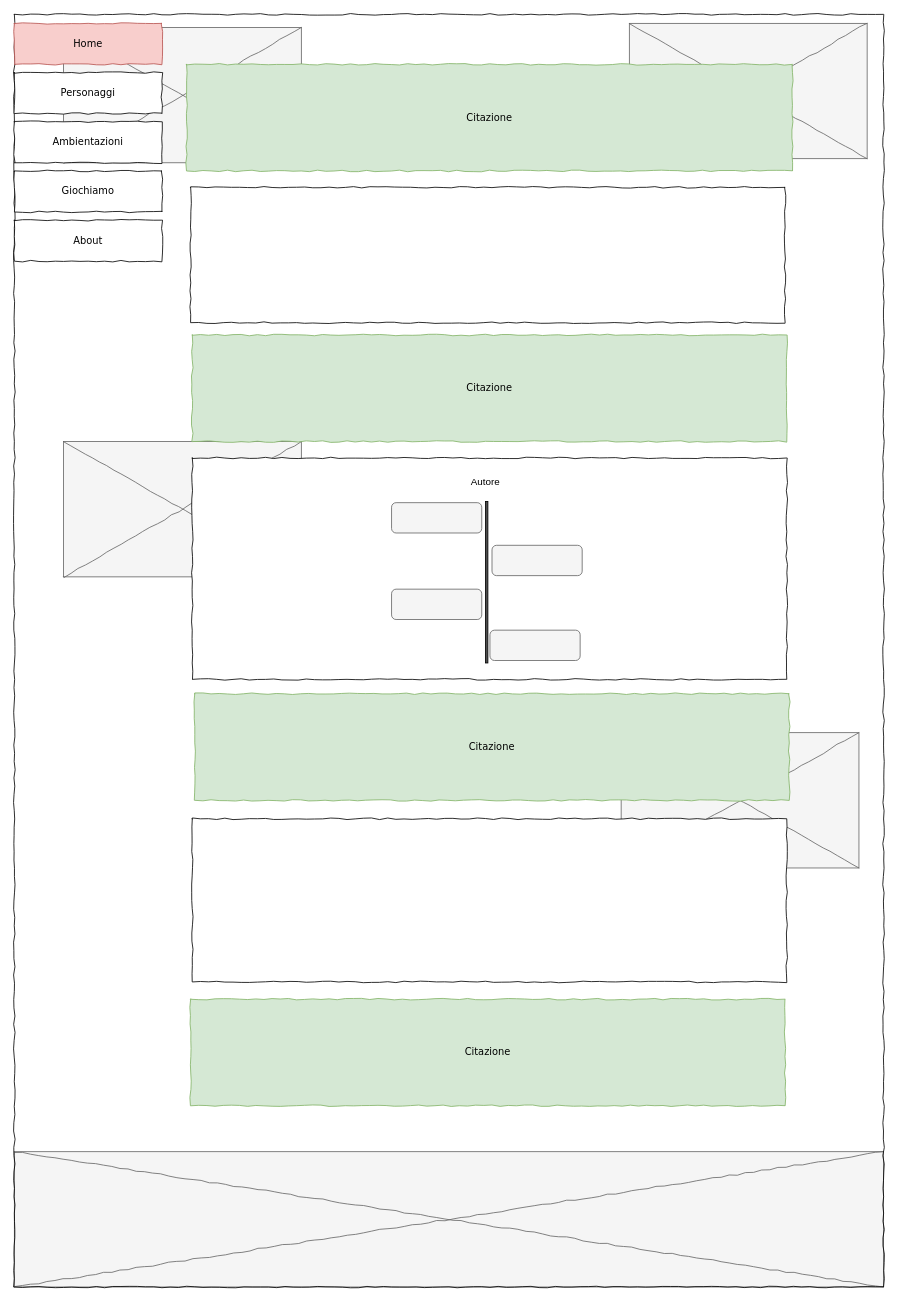
This 898x1301 diagram has some shape labels left out. Each missing label, with the centre of its shape:
"Il film" goes at pixel 489 900.
"Il libro" goes at pixel 487 255.
